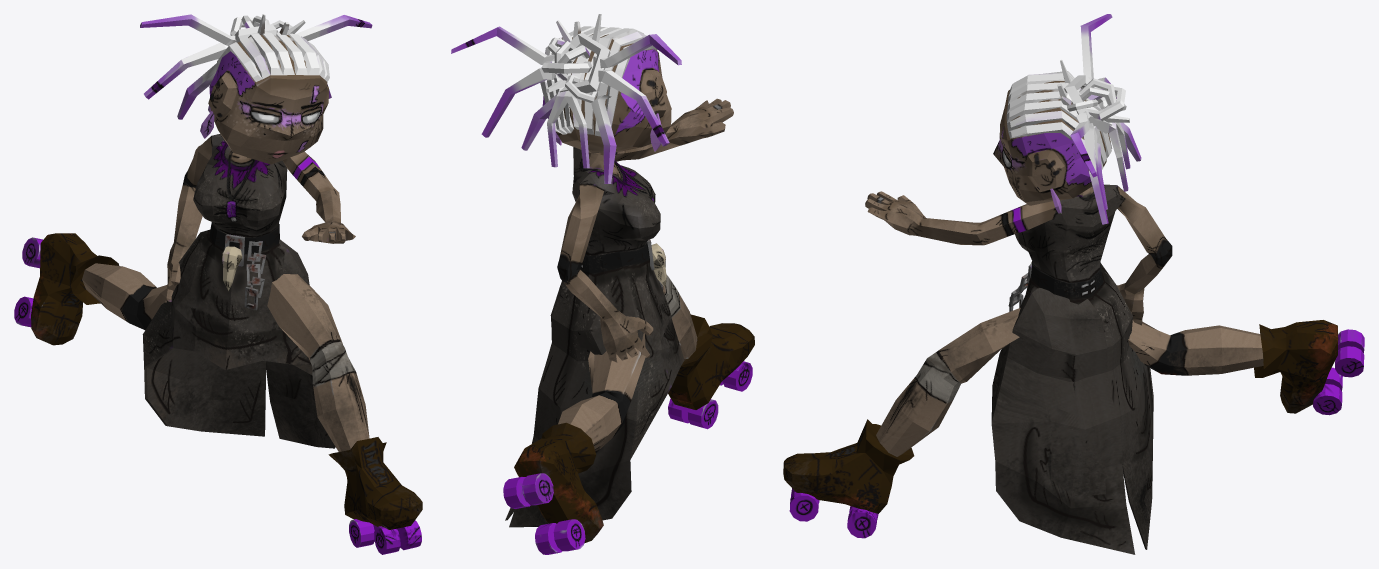
The model's file is bruja_000033.obj.
3 renders of one model, left to right at view 1: azimuth 30°, elevation 25°; view 2: azimuth 150°, elevation 25°; view 3: azimuth 270°, elevation 25°, orthographic. The views are drawn at different scales.
Visible parts, largest first — view 1: Bruja_Plane.001; view 2: Bruja_Plane.001; view 3: Bruja_Plane.001.
Boxes of the visible parts, x1,y1,x2,y2 form: Bruja_Plane.001: (14,14,422,554); Bruja_Plane.001: (451,14,754,554); Bruja_Plane.001: (783,14,1364,554).
Size of the model in its own units: 7.82 by 14.59 by 16.25.
